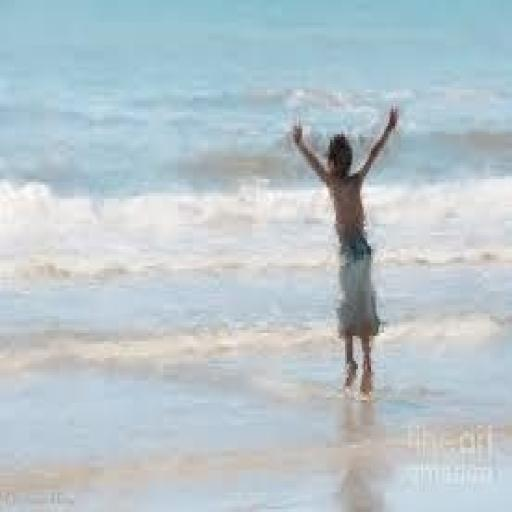dancing: (288, 100, 402, 392)
